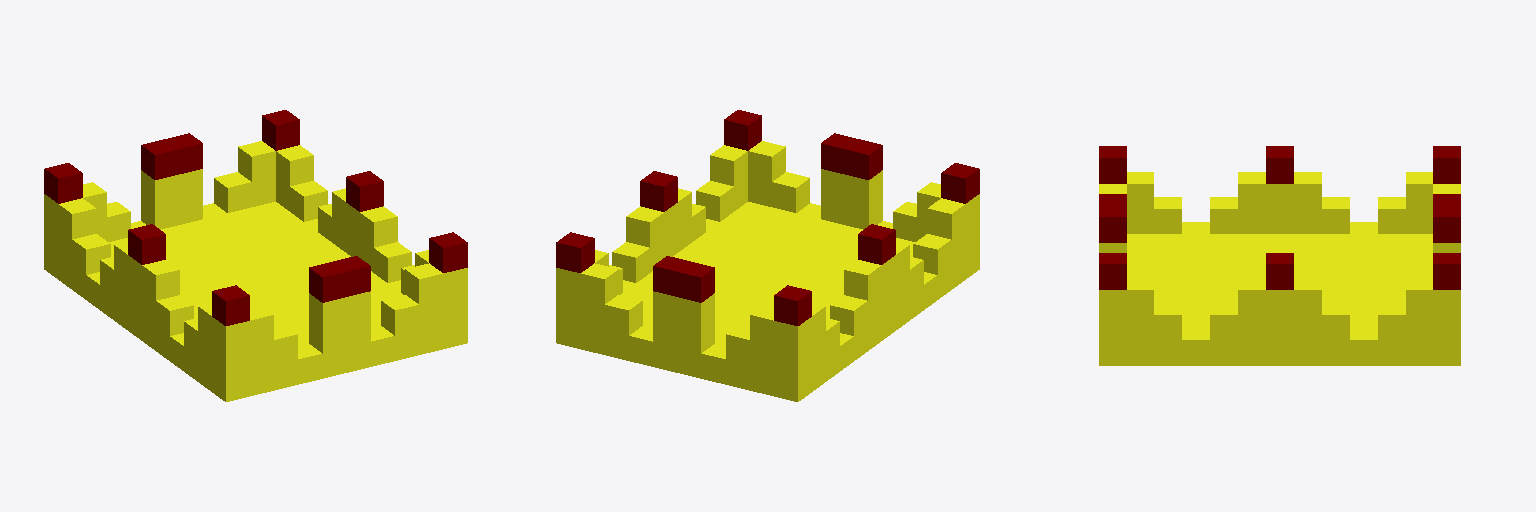
The picture shows the model from 3 angles: view 1: azimuth 30°, elevation 25°; view 2: azimuth 150°, elevation 25°; view 3: azimuth 270°, elevation 25°; orthographic projection.
Visible parts, largest first — view 1: object 1; view 2: object 1; view 3: object 1.
Boxes of the visible parts, x1,y1,x2,y2 form: object 1: [44, 110, 467, 401]; object 1: [556, 110, 979, 401]; object 1: [1099, 146, 1460, 365].
Size of the model in its own units: 1 by 0.4 by 1.3.
1 materials, 1 textured.